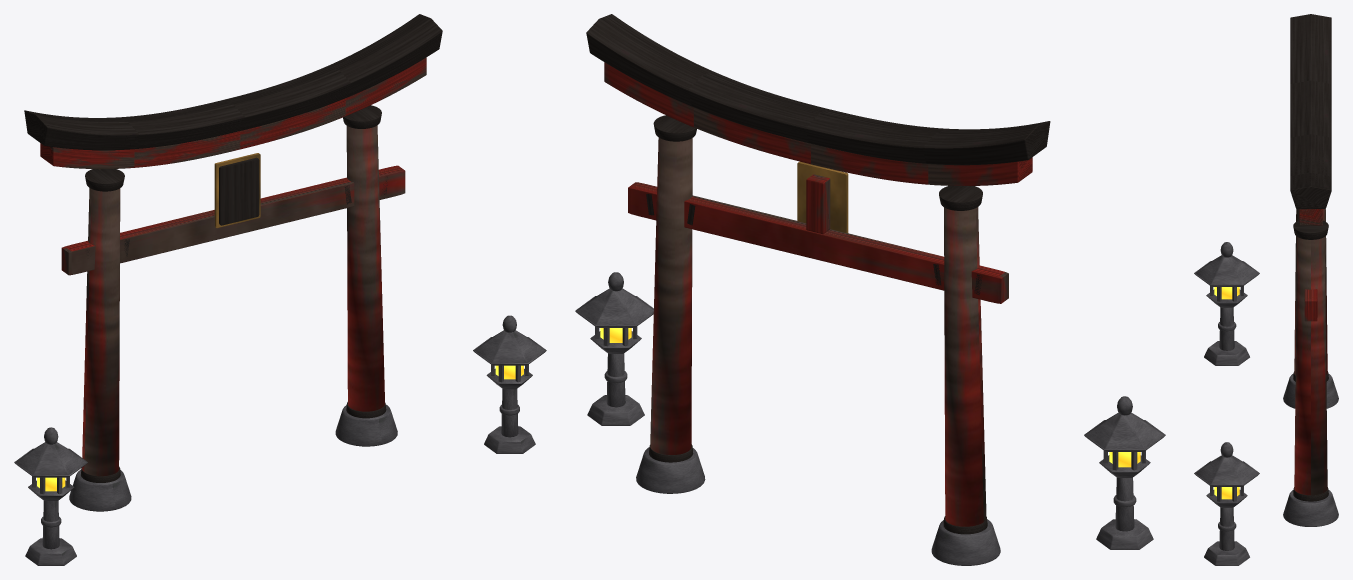
File: torii_gate.glb
The picture shows the model from 3 angles, left to right: view 1: azimuth 30°, elevation 25°; view 2: azimuth 150°, elevation 25°; view 3: azimuth 270°, elevation 25°; orthographic projection. The views are drawn at different scales.
Visible parts, largest first — view 1: Gate, LanternLMesh, LanternRMesh; view 2: Gate, LanternLMesh, LanternRMesh; view 3: Gate, LanternLMesh, LanternRMesh.
Part boxes in pixels (x1=…): Gate: x1=24, y1=14, x2=442, y2=511; LanternLMesh: x1=14, y1=427, x2=87, y2=565; LanternRMesh: x1=473, y1=315, x2=546, y2=453; Gate: x1=586, y1=14, x2=1050, y2=565; LanternLMesh: x1=1084, y1=396, x2=1165, y2=549; LanternRMesh: x1=575, y1=272, x2=653, y2=425; Gate: x1=1283, y1=14, x2=1338, y2=526; LanternLMesh: x1=1194, y1=242, x2=1259, y2=365; LanternRMesh: x1=1194, y1=442, x2=1259, y2=565.
Size of the model in its own units: 13.9 by 10.33 by 3.8.
5 materials, 4 textured.
